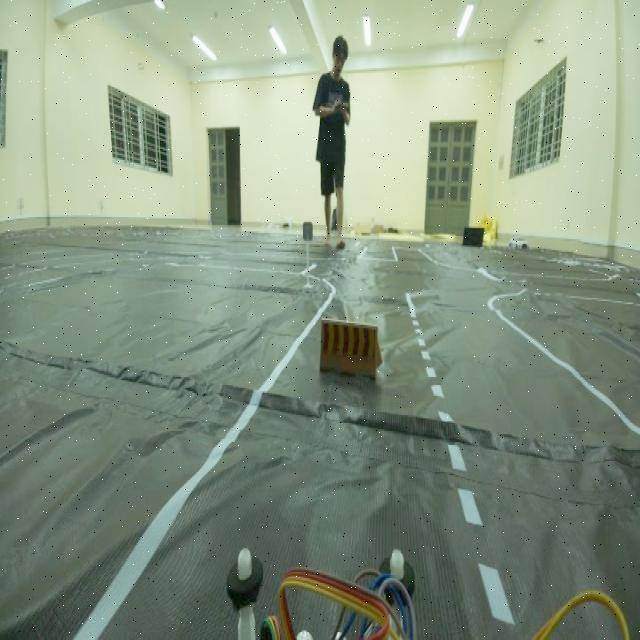roadblock: (316, 306, 387, 402)
